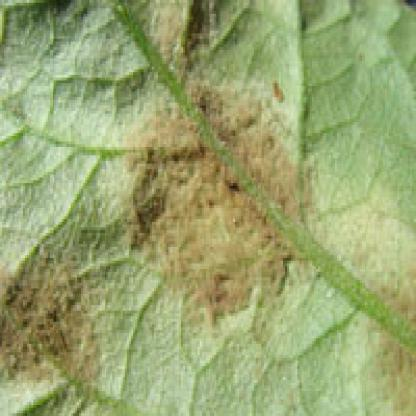tomato mold leaf: (2, 8, 414, 413)
